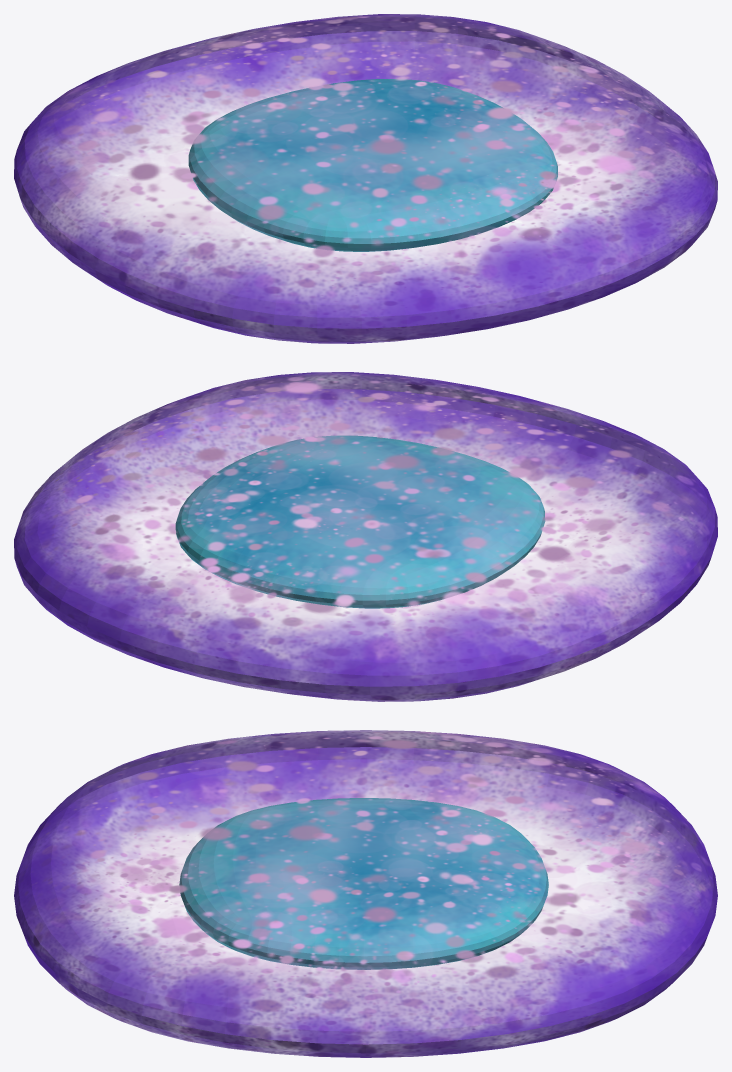
Rendered from food.fbx.
The picture shows the model from 3 angles, top to bottom: view 1: azimuth 30°, elevation 25°; view 2: azimuth 150°, elevation 25°; view 3: azimuth 270°, elevation 25°; orthographic projection. The views are drawn at different scales.
Visible parts, largest first — view 1: Cube, Cube.001; view 2: Cube, Cube.001; view 3: Cube, Cube.001.
Part boxes in pixels (<box>): Cube: <box>14,14,717,343</box>; Cube.001: <box>188,79,557,251</box>; Cube: <box>14,372,717,701</box>; Cube.001: <box>175,435,545,608</box>; Cube: <box>14,730,717,1057</box>; Cube.001: <box>179,798,548,969</box>.
Bounding box in the file's own units: 274 × 48.79 × 274.
2 materials, 2 textured.
